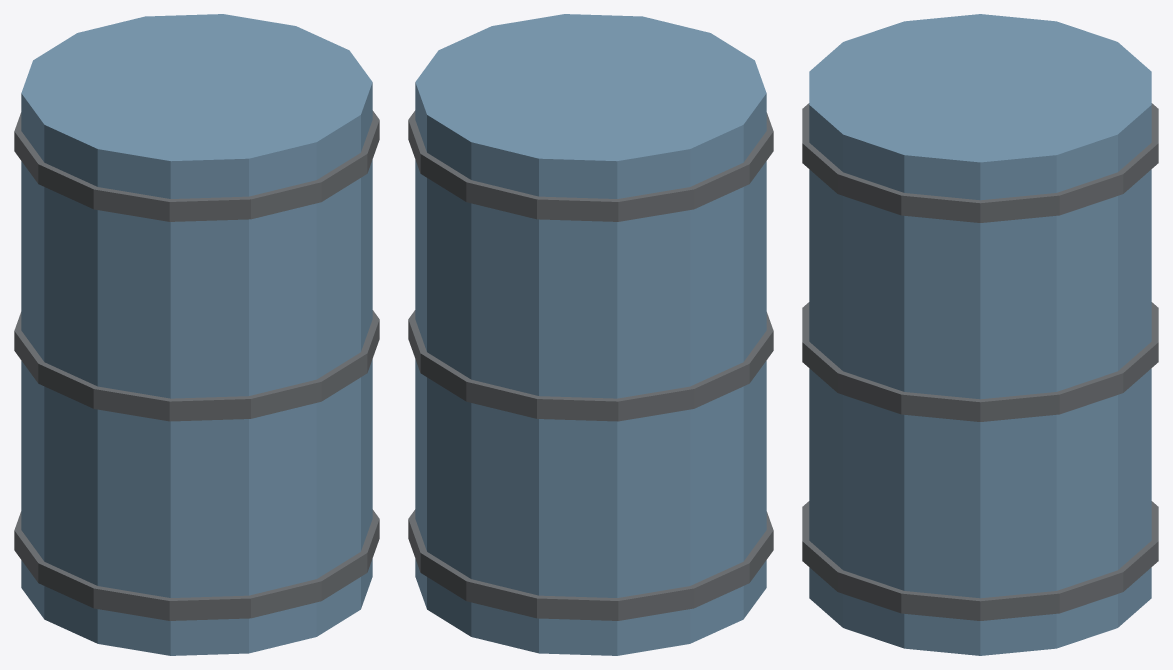
File: drum_cluster_04.glb
The picture shows the model from 3 angles, left to right: view 1: azimuth 30°, elevation 25°; view 2: azimuth 150°, elevation 25°; view 3: azimuth 270°, elevation 25°; orthographic projection.
Parts seen in each view (by area): view 1: drum0, ring0_0.31, ring0_0.06, ring0_0.56; view 2: drum0, ring0_0.31, ring0_0.06, ring0_0.56; view 3: drum0, ring0_0.06, ring0_0.56, ring0_0.31.
Part boxes in pixels (x1,y1,x2,y2): drum0: (21,14,372,655); ring0_0.31: (14,310,379,421); ring0_0.06: (14,509,379,620); ring0_0.56: (14,110,379,221); drum0: (415,14,766,655); ring0_0.31: (408,310,773,421); ring0_0.06: (408,509,773,620); ring0_0.56: (408,110,773,221); drum0: (809,14,1151,655); ring0_0.06: (802,501,1158,620); ring0_0.56: (802,103,1158,222); ring0_0.31: (802,302,1158,421).
Bounding box in the file's own units: 0.416 × 0.62 × 0.4056.
